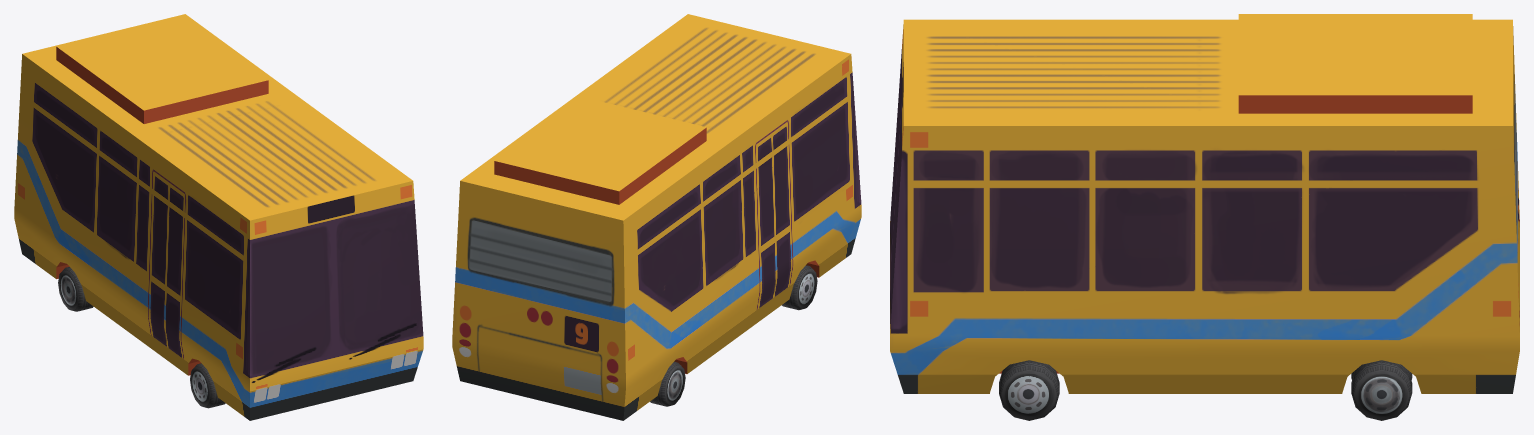
3 views of the same model, side by side, from view 1: azimuth 30°, elevation 25°; view 2: azimuth 150°, elevation 25°; view 3: azimuth 270°, elevation 25° (orthographic). The views are drawn at different scales.
Parts seen in each view (by area): view 1: bus, wheel_2, wheel_5; view 2: bus, wheel_5, wheel_2; view 3: bus, wheel_4, wheel_6.
Boxes of the visible parts, x1=… form: bus: x1=14, y1=14, x2=423, y2=420; wheel_2: x1=58, y1=267, x2=93, y2=311; wheel_5: x1=190, y1=363, x2=225, y2=408; bus: x1=452, y1=14, x2=861, y2=420; wheel_5: x1=782, y1=265, x2=817, y2=310; wheel_2: x1=650, y1=361, x2=685, y2=406; bus: x1=890, y1=14, x2=1519, y2=393; wheel_4: x1=1351, y1=360, x2=1412, y2=420; wheel_6: x1=999, y1=360, x2=1059, y2=420.
Size of the model in its own units: 2.53 by 3.27 by 5.96.
1 material, 1 textured.
